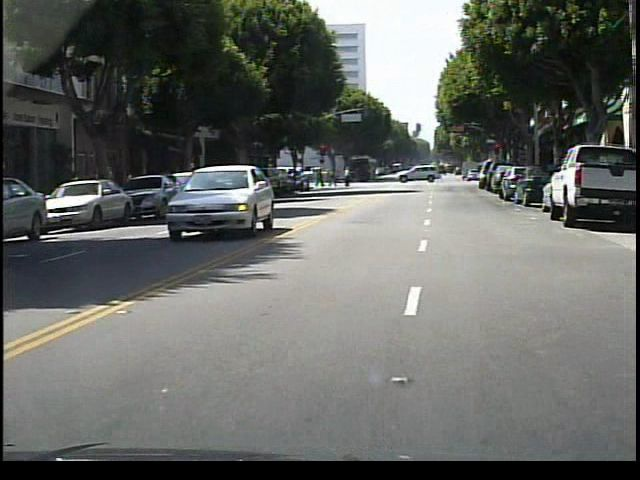person: (339, 163, 359, 192)
